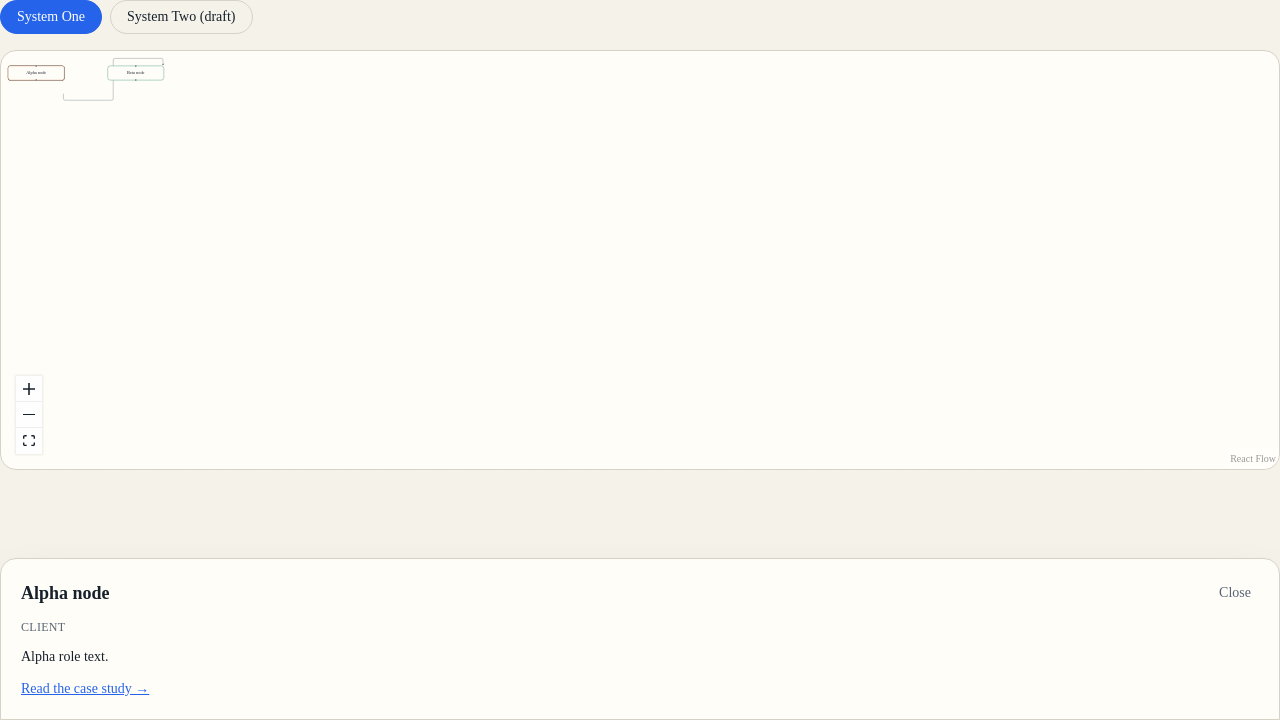
Explorer › uses the bottom sheet on mobile and hides the floating AI button while it is open
expect the dialog named "alpha node details" is shown: met, box [0, 558, 1279, 719]
Click the button with aria-label "close details".
click(1235, 593)  # box [1211, 579, 1259, 607]
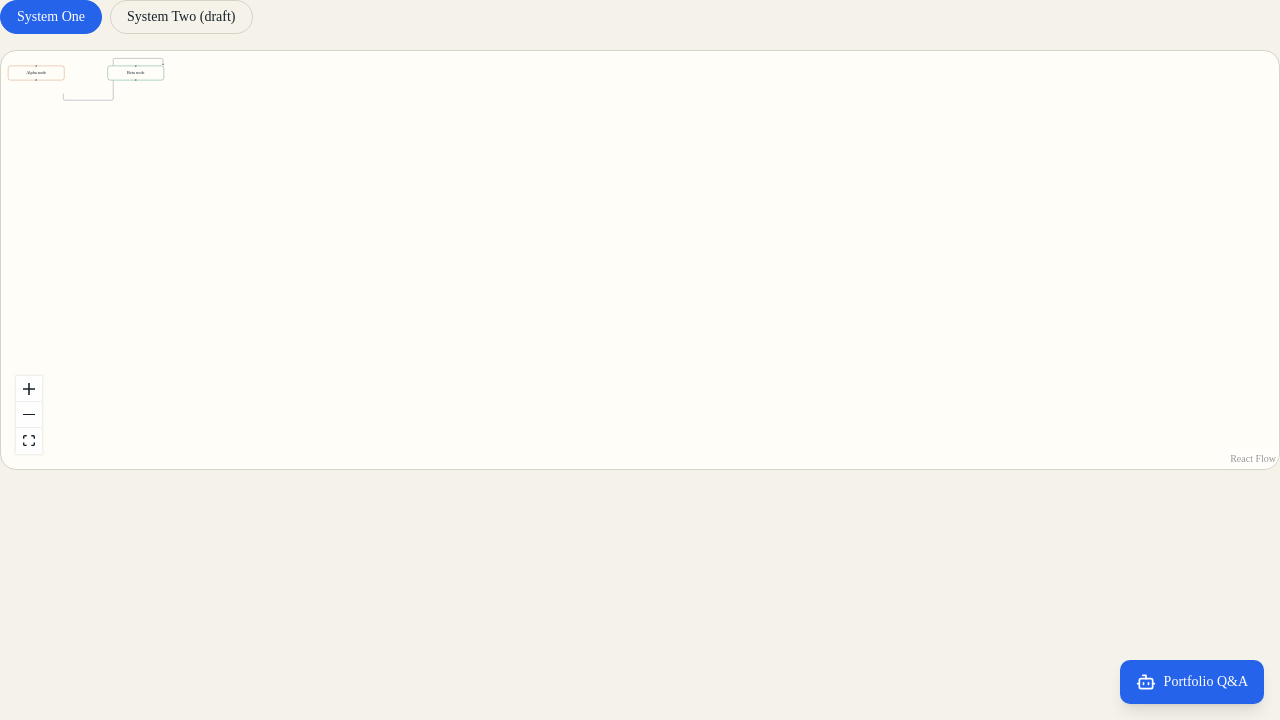
expect the button with aria-label "open portfolio q&a" is shown: met, box [1120, 660, 1264, 704]
